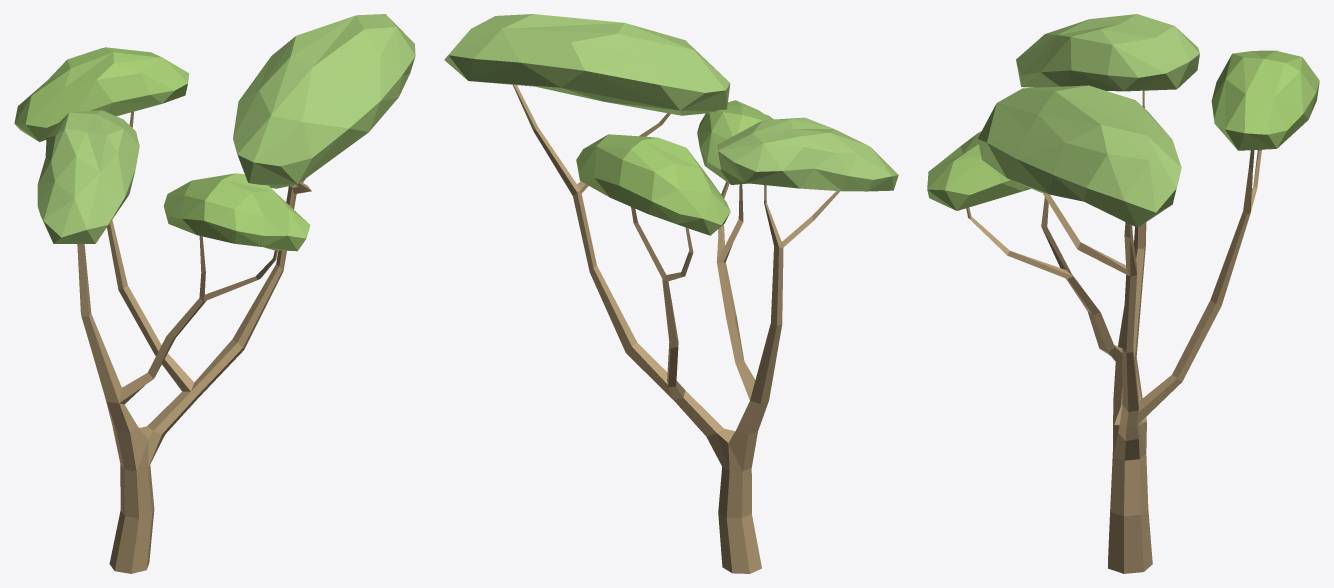
File: acaciaTree2.fbx
The picture shows the model from 3 angles, left to right: view 1: azimuth 30°, elevation 25°; view 2: azimuth 150°, elevation 25°; view 3: azimuth 270°, elevation 25°; orthographic projection. The views are drawn at different scales.
Parts seen in each view (by area): view 1: Acacia_Tree_l_02; view 2: Acacia_Tree_l_02; view 3: Acacia_Tree_l_02.
Boxes of the visible parts, <box> form: Acacia_Tree_l_02: <box>14,14,415,573</box>; Acacia_Tree_l_02: <box>444,14,898,573</box>; Acacia_Tree_l_02: <box>927,14,1319,573</box>.
Size of the model in its own units: 732 by 1006 by 1161.
1 material, 1 textured.
